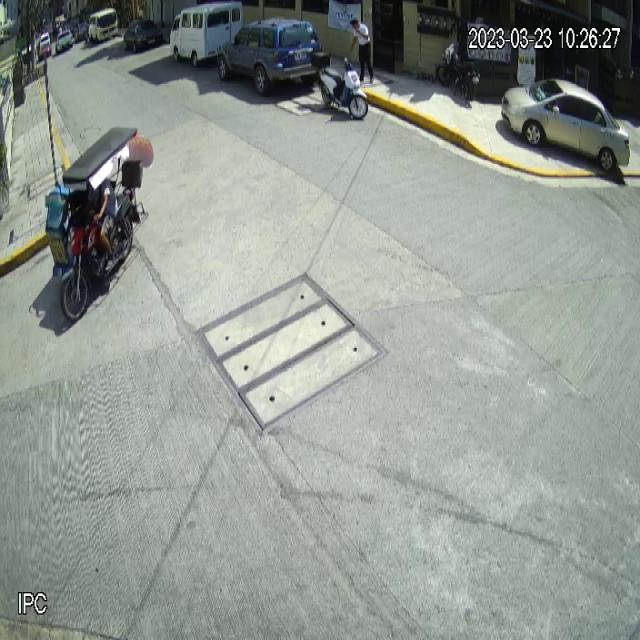Car: (501, 78, 630, 171), (227, 17, 321, 95)
Motorcycle: (312, 51, 368, 121)
Tricycle: (42, 119, 141, 325)
Van: (169, 0, 242, 69)
